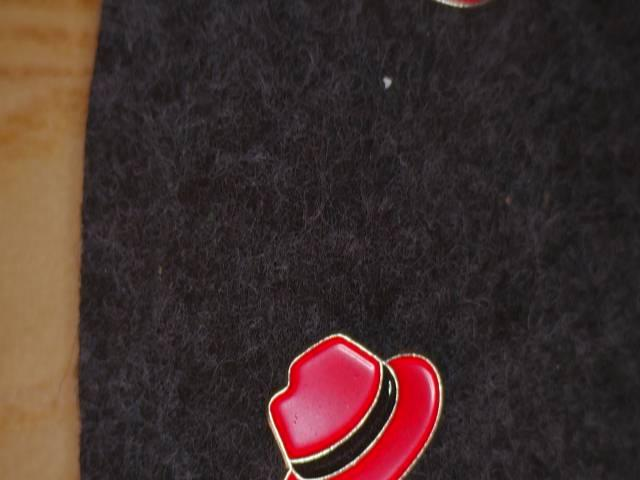Red-Hat: (241, 319, 477, 480)
